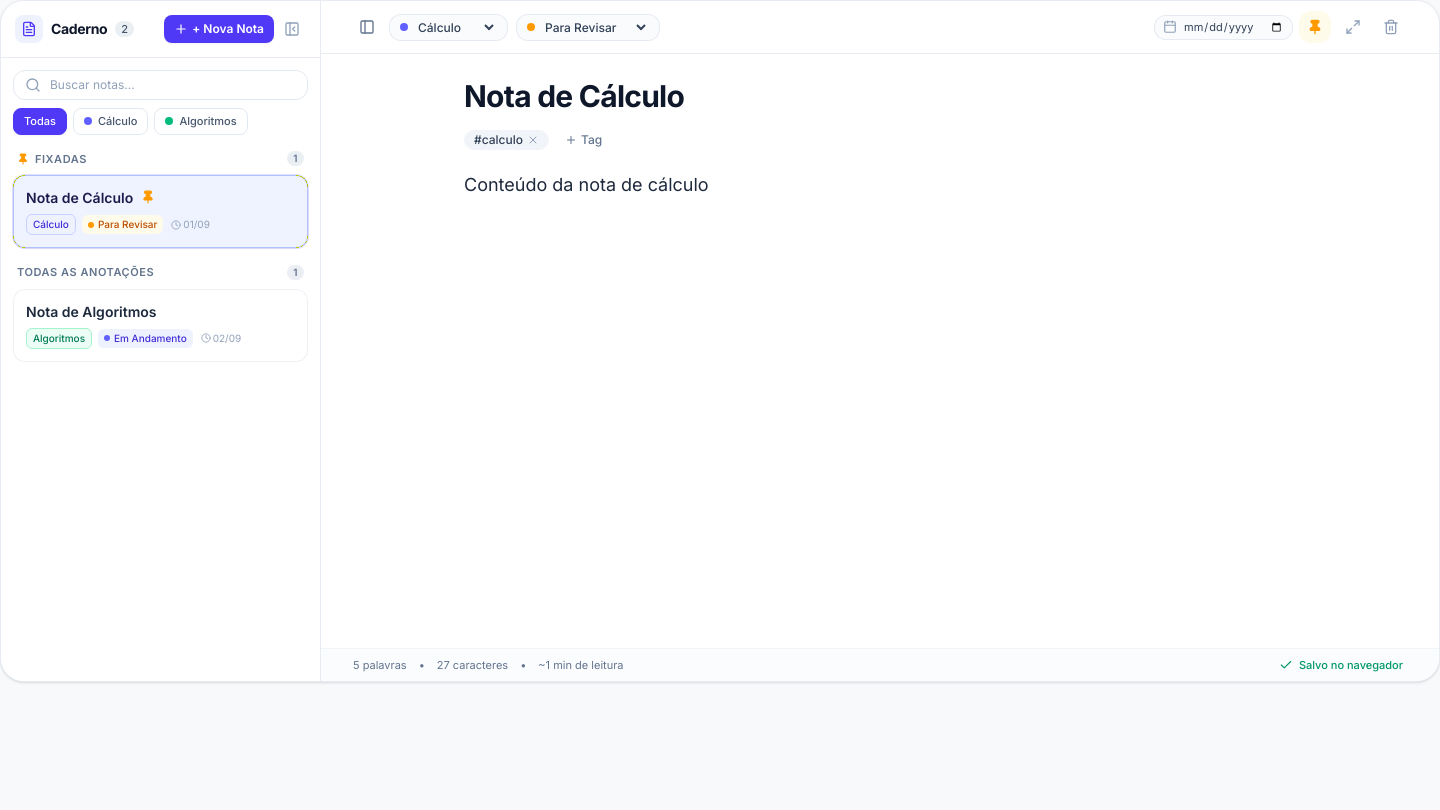
Scenario: AcademicStudio › permite selecionar diferentes notas atualizando o editor
Click the button with aria-label "Selecionar anotação: Nota de Algoritmos": [91, 311] box [13,288,308,362]
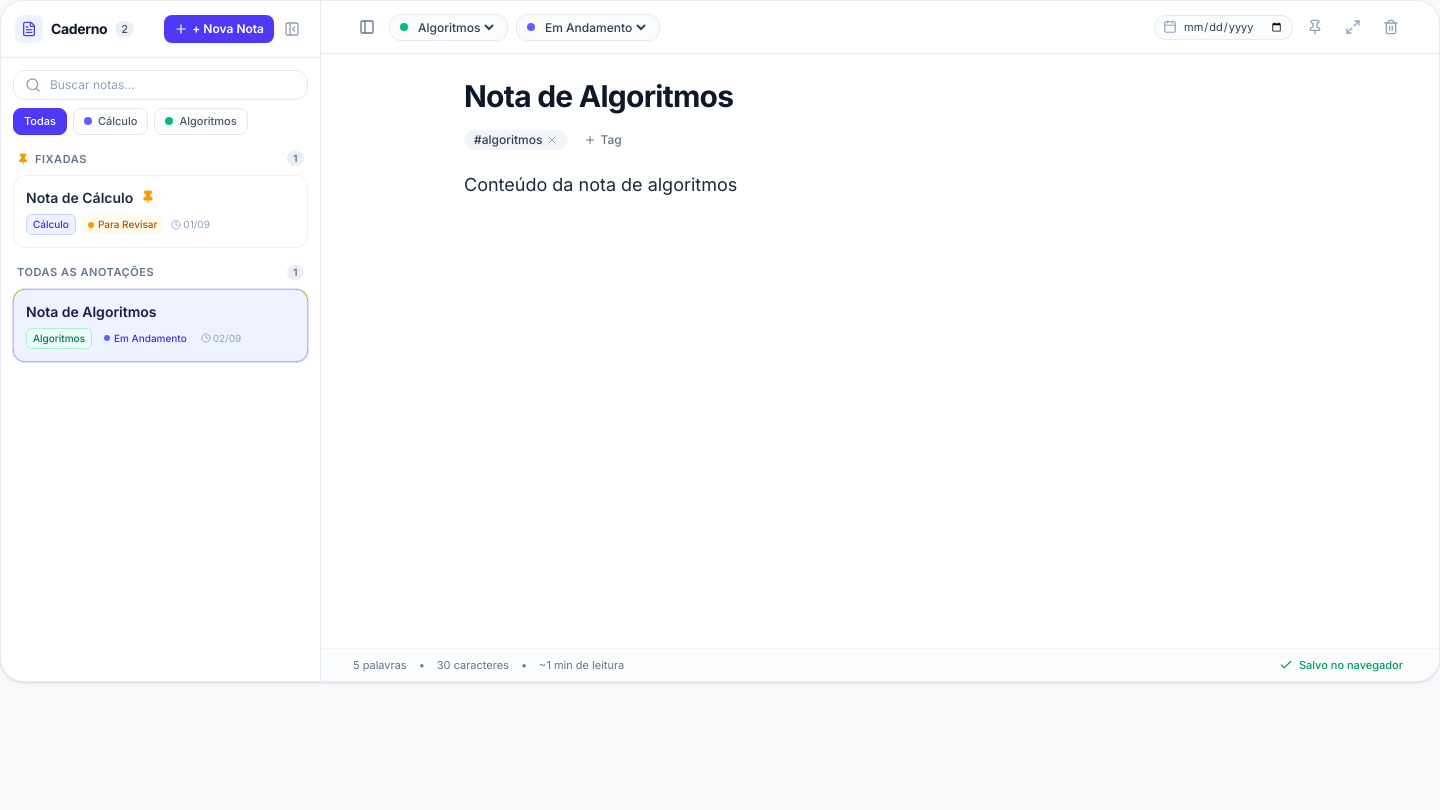
Expected: the field named "Título da anotação" holds "Nota de Algoritmos", [464,78,1296,114]
Expected: the text box named "Conteúdo da anotação" holds "Conteúdo da nota de algoritmos", [464,158,1296,624]
